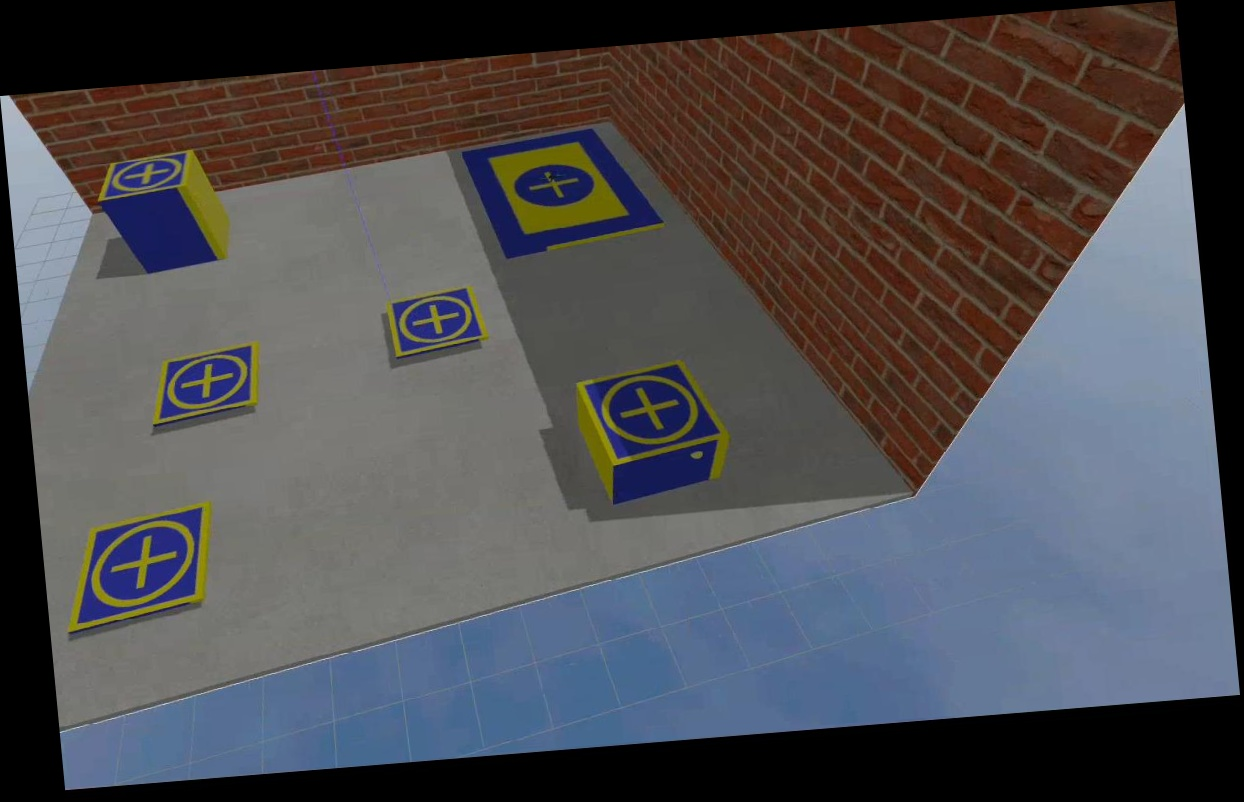large_base: (462, 123, 667, 262)
small_base: (56, 502, 220, 635), (575, 356, 734, 469), (146, 341, 265, 430), (380, 288, 488, 364), (94, 150, 199, 203)
